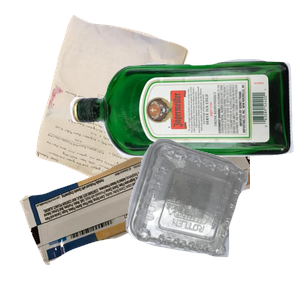glass: (67, 56, 300, 206)
paper: (33, 12, 214, 192)
plastic: (123, 136, 300, 300)
trash: (17, 123, 257, 300)
